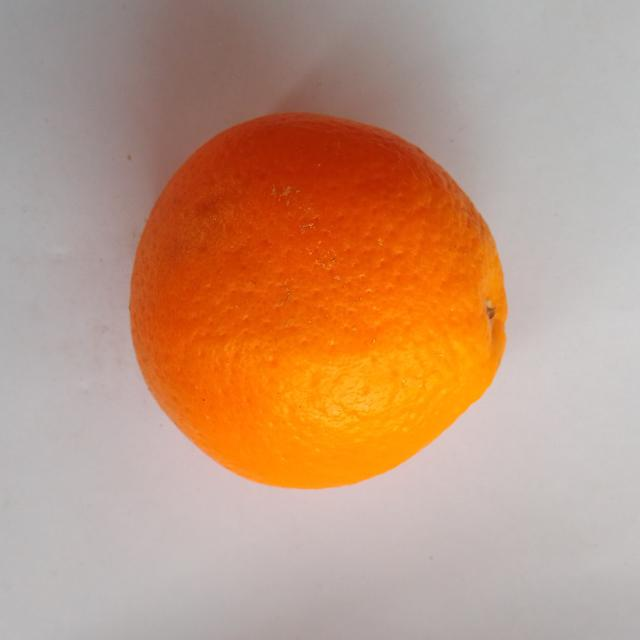orange: (131, 114, 506, 487)
